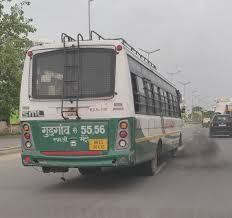smoke: (178, 138, 224, 172)
